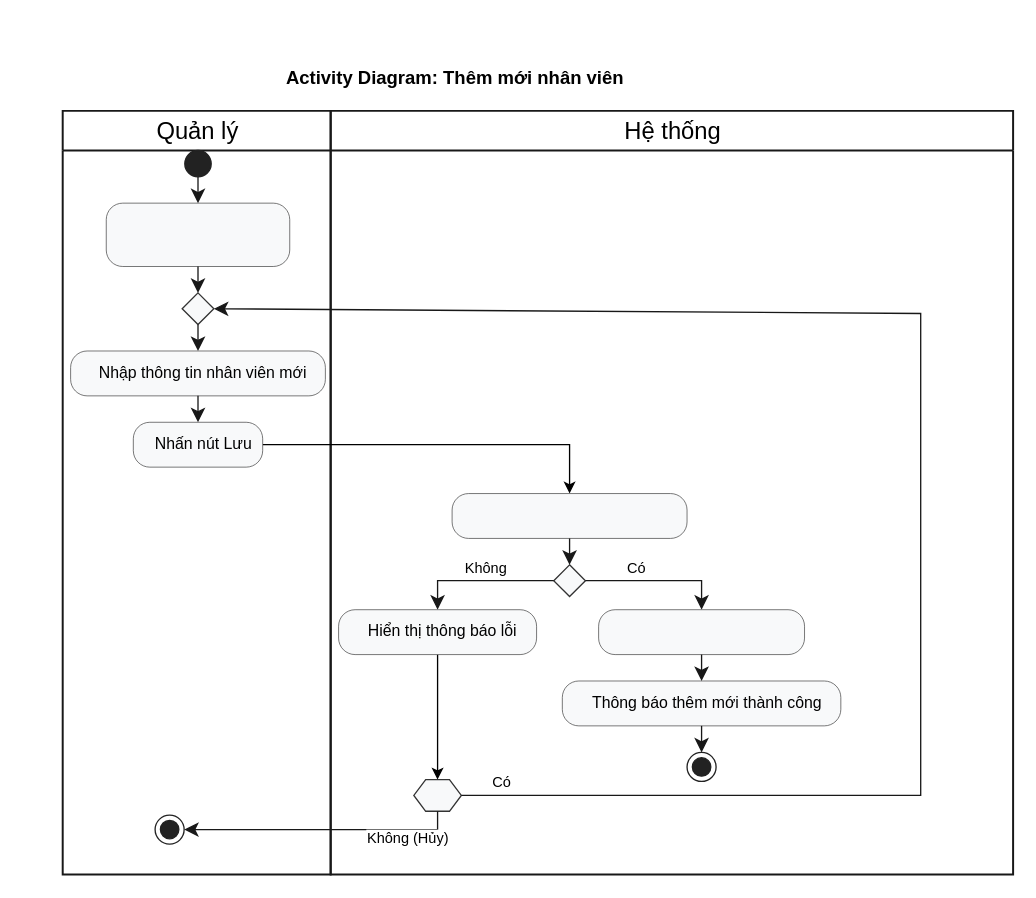
The diagram is 1036 pixels wide and 898 high, and some of its shapes have lost their labels. The shapes that lost their labels are listed below. From the top down, each one's centre as x and y in pixels, then its label:
At point (197, 234): "Chọn chức năng Thêm mới nhân viên".
At point (569, 515): "Kiểm tra tính hợp lệ dữ liệu".
At point (701, 631): "Lưu thông tin vào CSDL".
